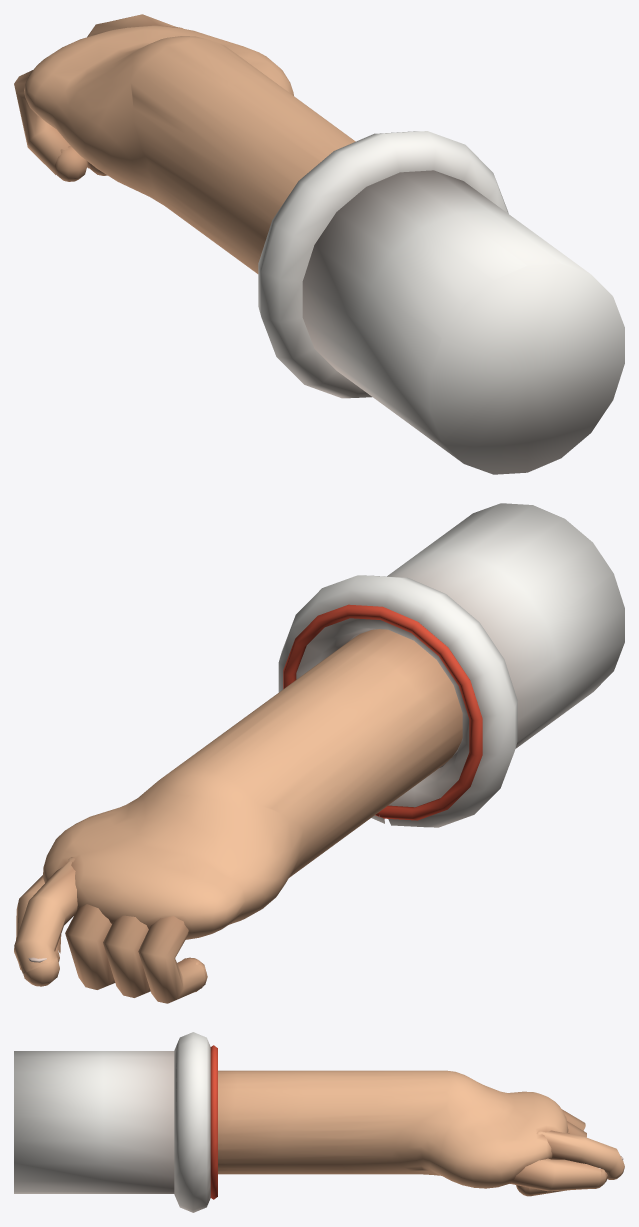
Rendered from fp-hand-left-pinch.gltf.
The picture shows the model from 3 angles, top to bottom: view 1: azimuth 30°, elevation 25°; view 2: azimuth 150°, elevation 25°; view 3: azimuth 270°, elevation 25°; orthographic projection. The views are drawn at different scales.
Parts seen in each view (by area): view 1: model; view 2: model; view 3: model.
Boxes of the visible parts, bbox=[...] form: model: bbox=[14, 14, 624, 474]; model: bbox=[14, 503, 624, 1003]; model: bbox=[14, 1032, 624, 1212].
Size of the model in its own units: 0.1533 by 0.1518 by 0.5112.
